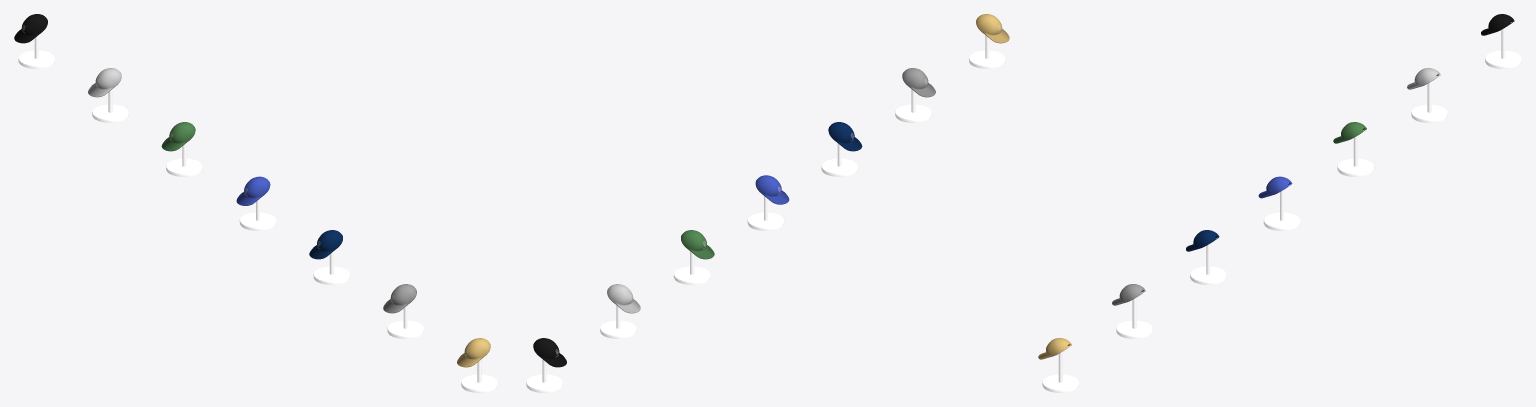
The model's file is hats.glb.
3 views of the same model, side by side, from view 1: azimuth 30°, elevation 25°; view 2: azimuth 150°, elevation 25°; view 3: azimuth 330°, elevation 25° (orthographic).
Parts seen in each view (by area): view 1: Hats; view 2: Hats; view 3: Hats.
Part boxes in pixels (x1,y1,x2,y2): Hats: [14, 14, 497, 392]; Hats: [526, 14, 1009, 392]; Hats: [1038, 14, 1521, 392].
Bounding box in the file's own units: 0.6949 × 0.8246 × 15.
Materials: 3 (3 with a texture image).
